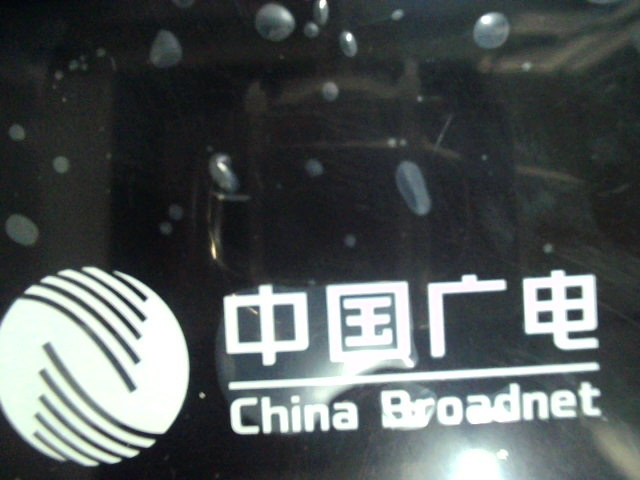AW_ChinaBroadNet: (2, 263, 623, 469)
